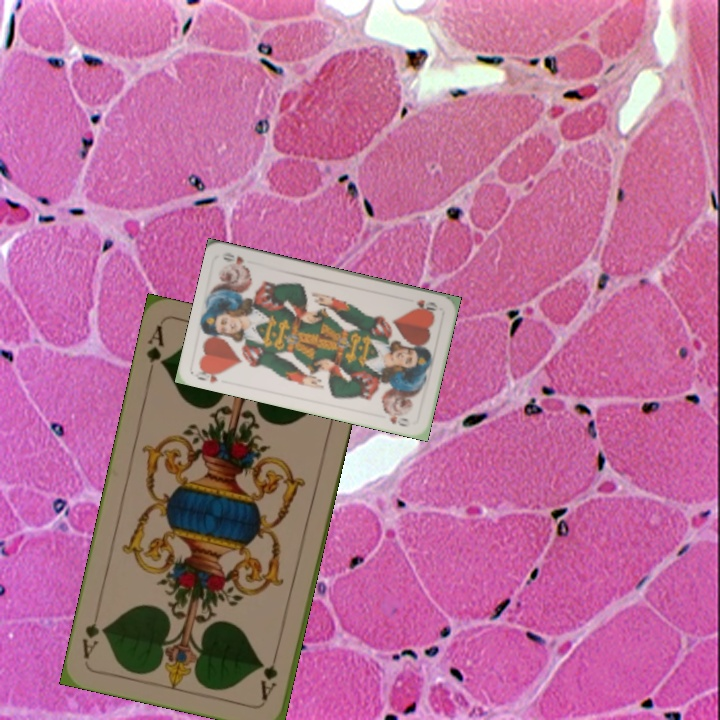GA: (142, 321, 168, 380), (257, 645, 281, 703)
HO: (191, 363, 226, 385), (412, 295, 441, 314)
